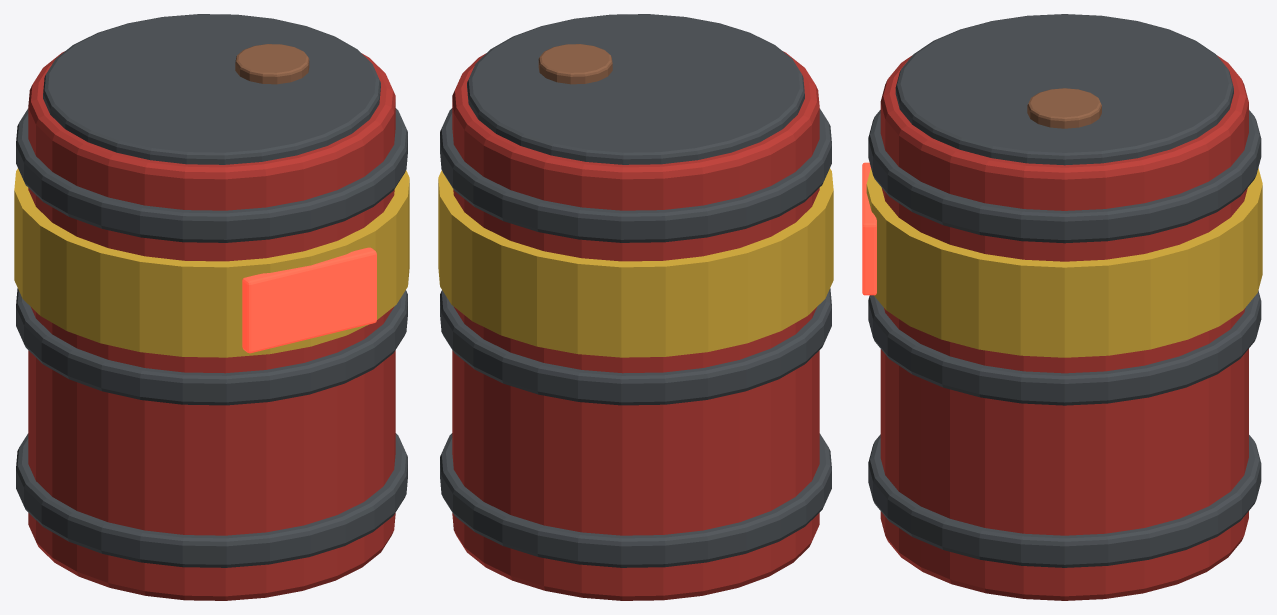
The model's file is barrel_explosive.glb.
3 views of the same model, side by side, from view 1: azimuth 30°, elevation 25°; view 2: azimuth 150°, elevation 25°; view 3: azimuth 270°, elevation 25° (orthographic).
Parts seen in each view (by area): view 1: barrel_explosive; view 2: barrel_explosive; view 3: barrel_explosive.
Part boxes in pixels (bbox=[...]): barrel_explosive: bbox=[14, 14, 409, 600]; barrel_explosive: bbox=[438, 14, 833, 600]; barrel_explosive: bbox=[862, 14, 1262, 600].
Size of the model in its own units: 0.796 by 1 by 0.805.
